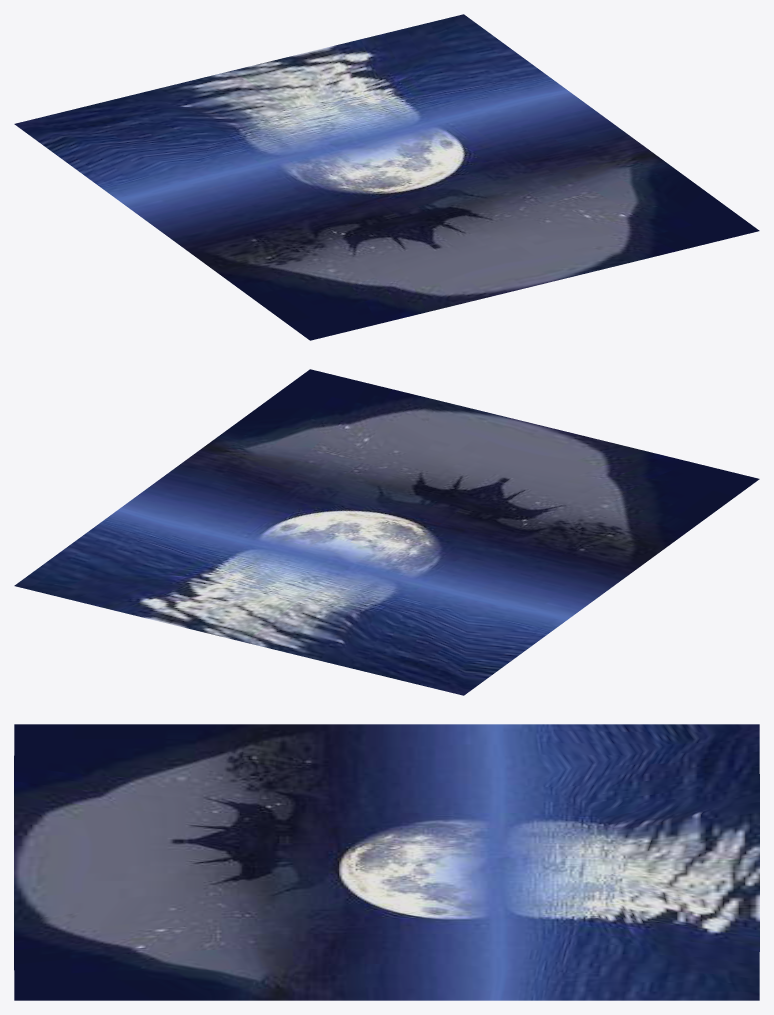
The model's file is yuanxing.FBX.
3 views of the same model, one above another, from view 1: azimuth 30°, elevation 25°; view 2: azimuth 150°, elevation 25°; view 3: azimuth 270°, elevation 25° (orthographic). The views are drawn at different scales.
Visible parts, largest first — view 1: yuanxing; view 2: yuanxing; view 3: yuanxing.
Boxes of the visible parts, box(x1,y1,x2,y2) form: yuanxing: box(14, 14, 759, 340); yuanxing: box(14, 369, 759, 695); yuanxing: box(14, 724, 759, 1000).
Size of the model in its own units: 10.64 by 0.00221 by 12.14.
